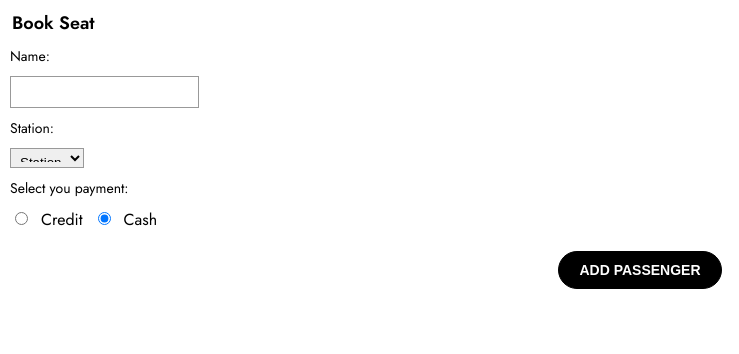
Test: Shows name error message
Step 1. Select "213" in the dropdown with test id "station" → (47, 158), box x1=10 y1=148 x2=84 y2=168
Step 2. Click the button "Add passenger" → (640, 270), box x1=558 y1=251 x2=722 y2=289
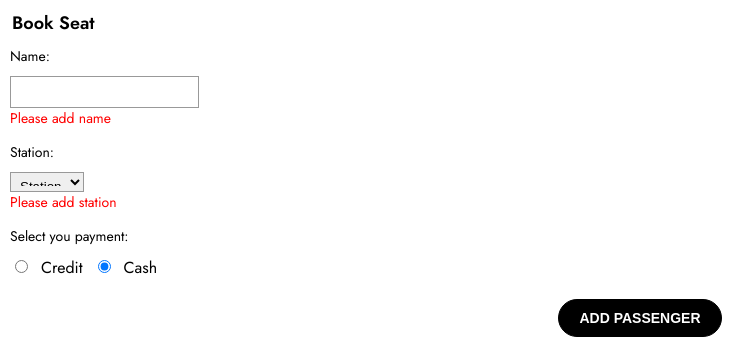
Now the text "Please add name" is shown, box x1=10 y1=108 x2=111 y2=128
